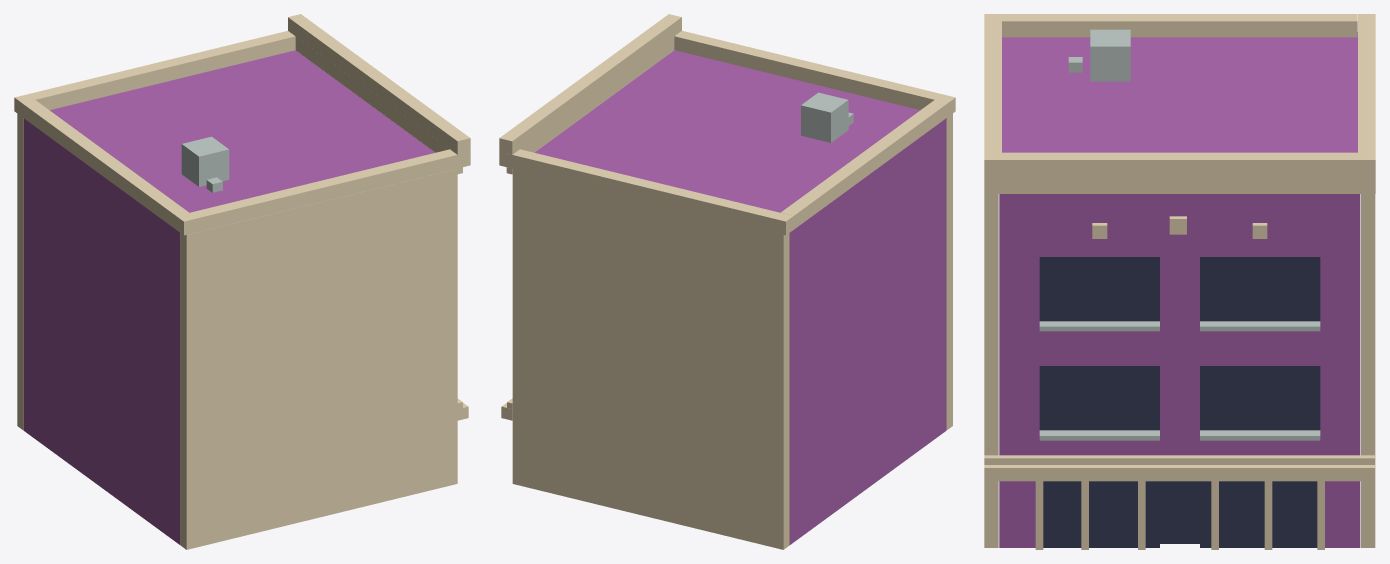
File: Building2_biggerBlock.fbx
3 views of the same model, side by side, from view 1: azimuth 30°, elevation 25°; view 2: azimuth 150°, elevation 25°; view 3: azimuth 270°, elevation 25° (orthographic). The views are drawn at different scales.
Parts seen in each view (by area): view 1: pCube909, pCube705, pCube1015, pCube772, pCube741, pCube1016, pCube439, pCube359, pCube196, pCube234, pCube409, pCube624 (+50 smaller); view 2: pCube911, pCube851, pCube821, pCube732, pCube909, pCube882, pCube1015, pCube235, pCube659, pCube425, pCube555, pCube397 (+50 smaller); view 3: pCube909, pCube910, pCube725, pCube726, pCube234, pCube4867, pCube391, pCube226, pCube225, pCube232, pCube911, pCube623 (+34 smaller).
Part boxes in pixels (x1,y1,x2,y2): pCube909: [356, 108, 470, 246]; pCube705: [296, 153, 397, 261]; pCube1015: [142, 188, 216, 297]; pCube772: [176, 183, 276, 290]; pCube741: [236, 168, 337, 275]; pCube1016: [145, 268, 216, 360]; pCube439: [145, 331, 216, 423]; pCube359: [145, 394, 216, 486]; pCube196: [145, 457, 216, 549]; pCube234: [397, 358, 468, 435]; pCube409: [337, 309, 397, 387]; pCube624: [337, 246, 397, 324]; pCube911: [499, 120, 595, 246]; pCube851: [693, 193, 776, 290]; pCube821: [632, 178, 716, 275]; pCube732: [572, 164, 656, 260]; pCube909: [628, 14, 741, 89]; pCube882: [751, 208, 807, 297]; pCube1015: [882, 89, 955, 203]; pCube235: [501, 358, 572, 435]; pCube659: [633, 261, 693, 338]; pCube425: [633, 324, 693, 401]; pCube555: [512, 232, 572, 309]; pCube397: [512, 295, 572, 372]; pCube909: [984, 134, 1079, 256]; pCube910: [1079, 150, 1159, 256]; pCube725: [1240, 150, 1320, 256]; pCube726: [1160, 150, 1239, 256]; pCube234: [984, 399, 1079, 481]; pCube4867: [984, 257, 1079, 331]; pCube391: [984, 329, 1079, 402]; pCube226: [1079, 399, 1159, 481]; pCube225: [1240, 399, 1320, 481]; pCube232: [1160, 399, 1239, 481]; pCube911: [1320, 134, 1375, 256]; pCube623: [1079, 257, 1159, 331].
Size of the model in its own units: 18.76 by 21.59 by 19.22.
